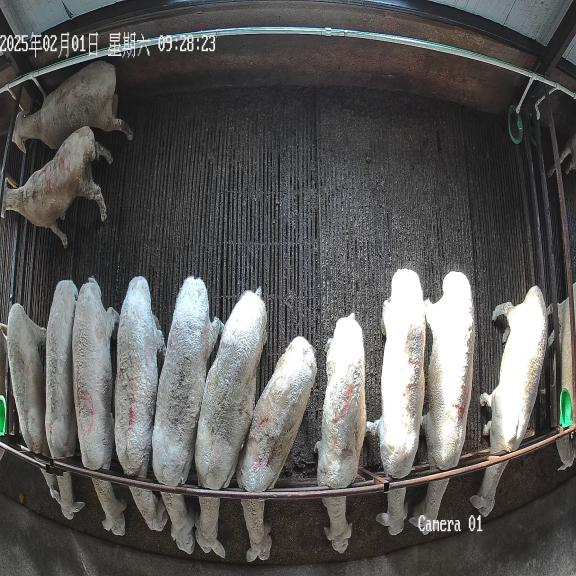eating: (152, 276, 224, 554), (195, 288, 267, 558), (236, 336, 316, 562), (470, 286, 547, 517), (409, 271, 474, 525), (366, 268, 426, 535), (72, 277, 126, 536), (115, 276, 168, 531), (315, 313, 366, 554), (7, 304, 63, 506), (45, 280, 84, 520)
stand: (2, 126, 112, 248), (13, 61, 133, 152)
